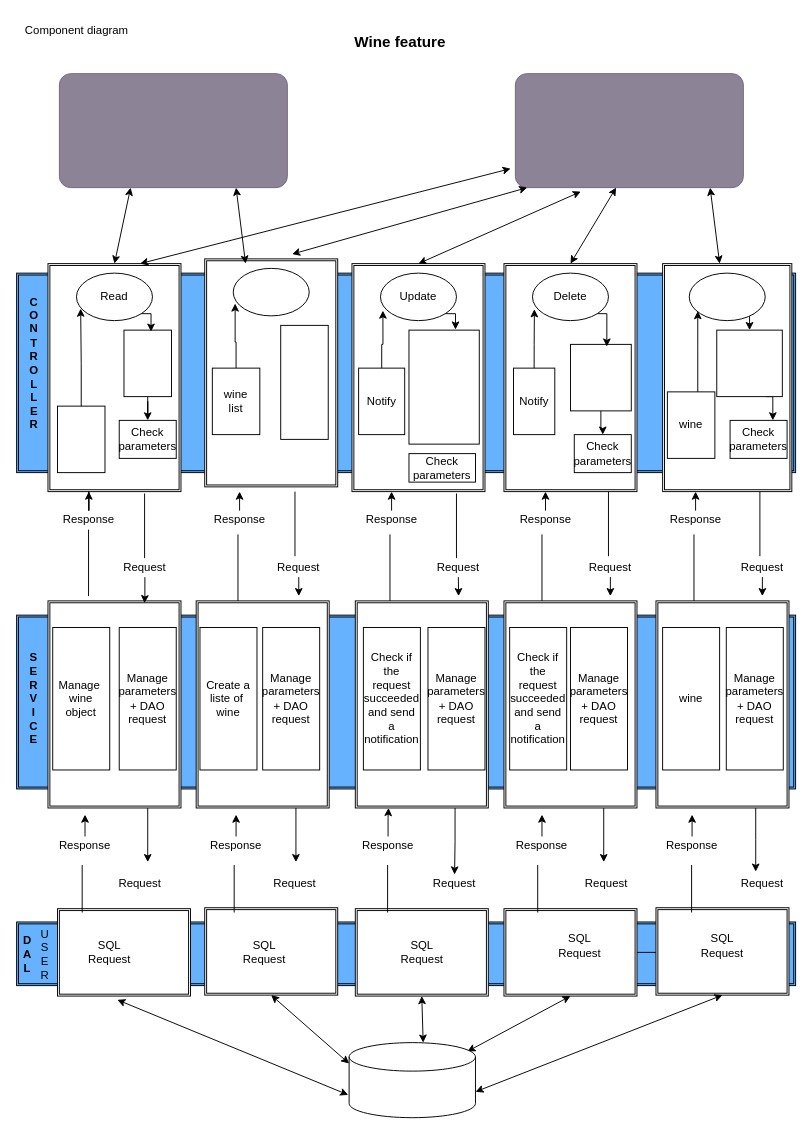
Image size: 812x1134. Some labels were removed from this diagram. Each missing label, with the centre of its shape:
"can be filtered by family or type of wine, price ...." goes at point 304,381.
"client" goes at point 81,439.
"Create" goes at point 726,296.
"Id wine" goes at point 600,377.
"id wine parameters to change" goes at point 443,386.
"KubyDB" goes at point 411,1080.
"Read All stock" goes at point 270,291.
"Wine : name, year, price ..." goes at point 749,363.
"Wine name" goes at point 147,363.
"Wine sales management softtware [JavaFX - Java]" goes at point 628,130.
"Wine sales website [VueJS - TypeScript]" goes at point 172,130.
